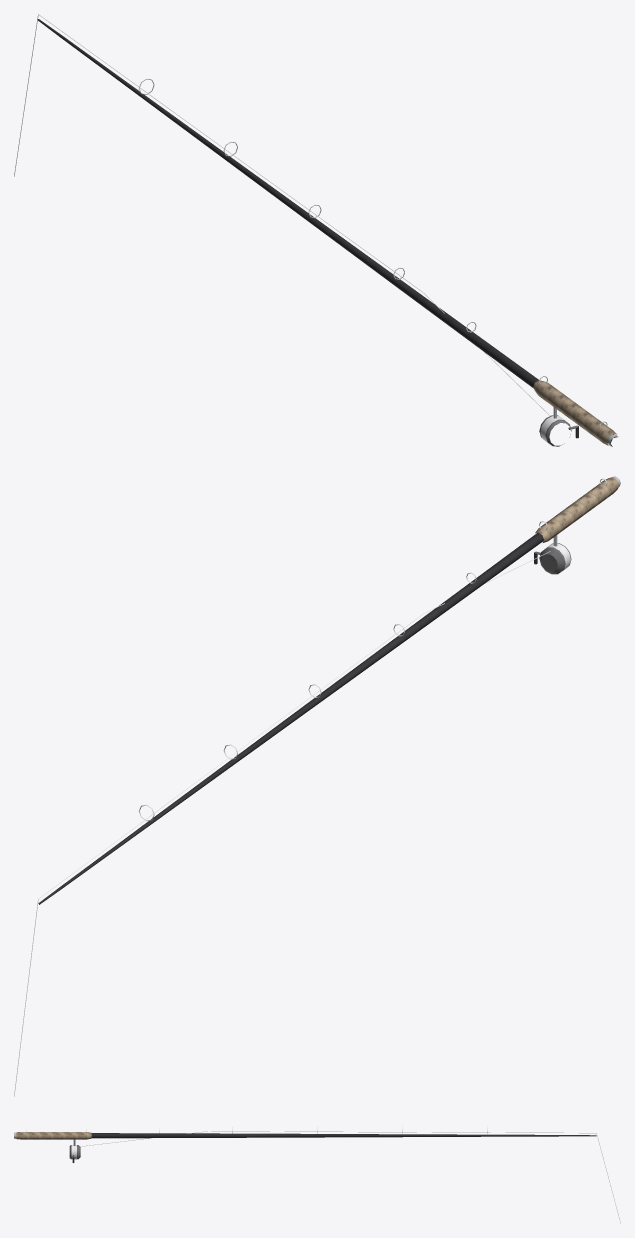
File: item_fishing_rod.glb
The picture shows the model from 3 angles, top to bottom: view 1: azimuth 30°, elevation 25°; view 2: azimuth 150°, elevation 25°; view 3: azimuth 270°, elevation 25°; orthographic projection. The views are drawn at different scales.
Parts seen in each view (by area): view 1: rod; view 2: rod; view 3: rod.
Part boxes in pixels (bbox=[...]): rod: bbox=[14, 14, 618, 446]; rod: bbox=[14, 476, 620, 1096]; rod: bbox=[14, 1125, 620, 1223].
Size of the model in its own units: 0.0845 by 0.4472 by 2.5.
Materials: 7 (7 with a texture image).
